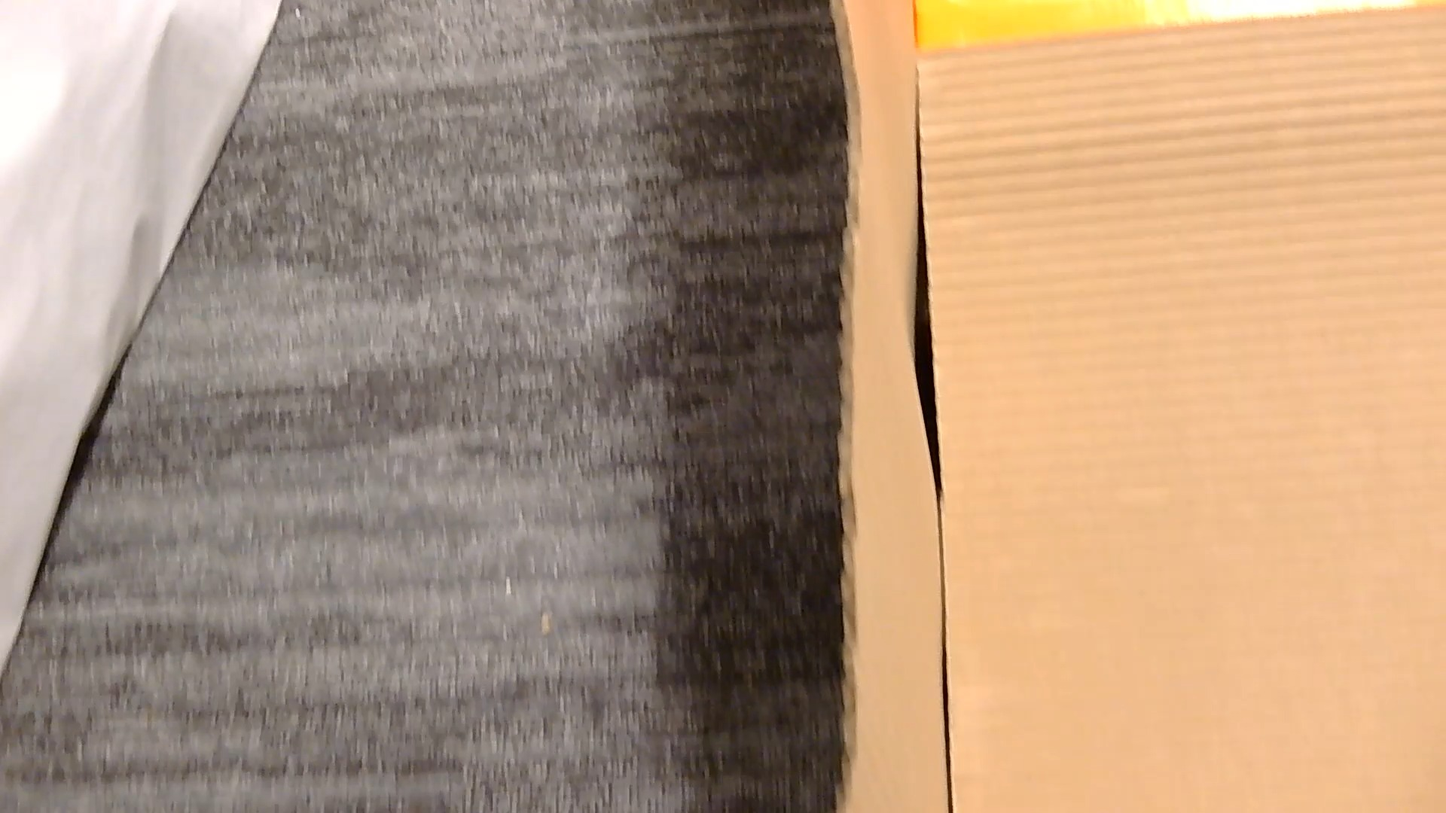Ramp: (835, 0, 1445, 812)
